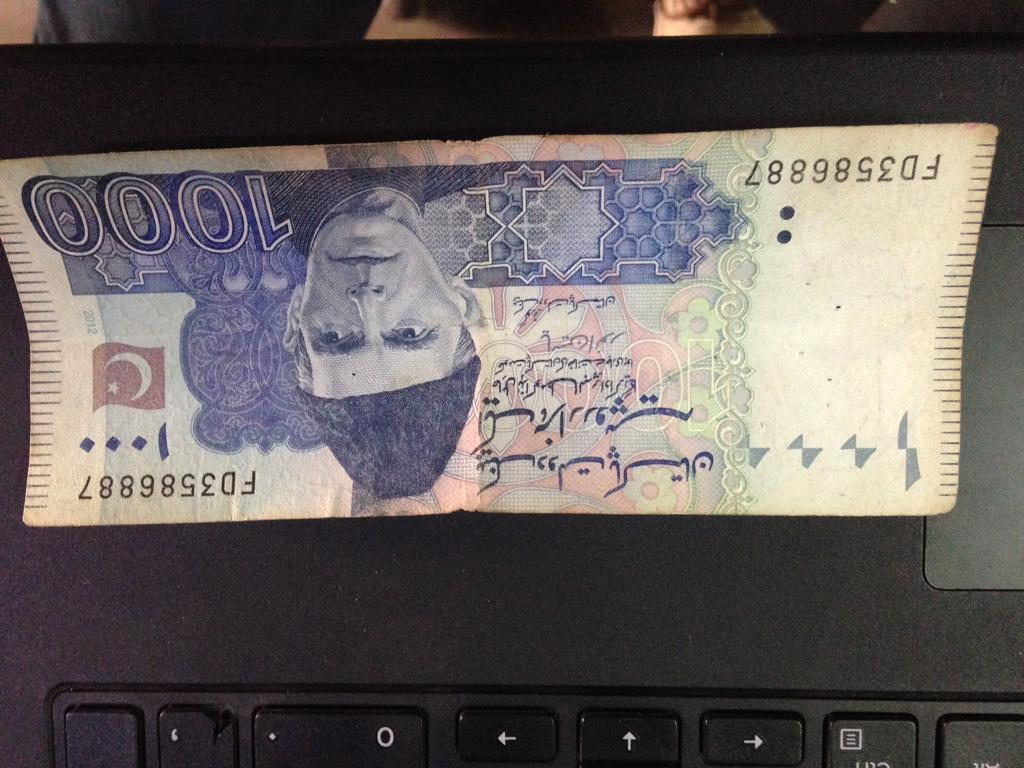1000 rupee: (5, 118, 991, 521)
